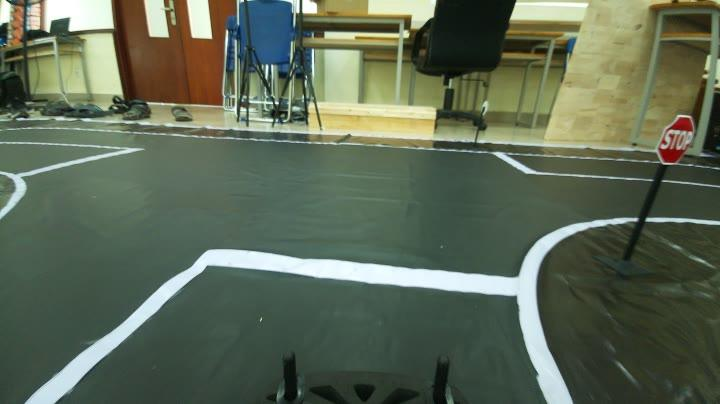stop: (658, 110, 699, 166)
